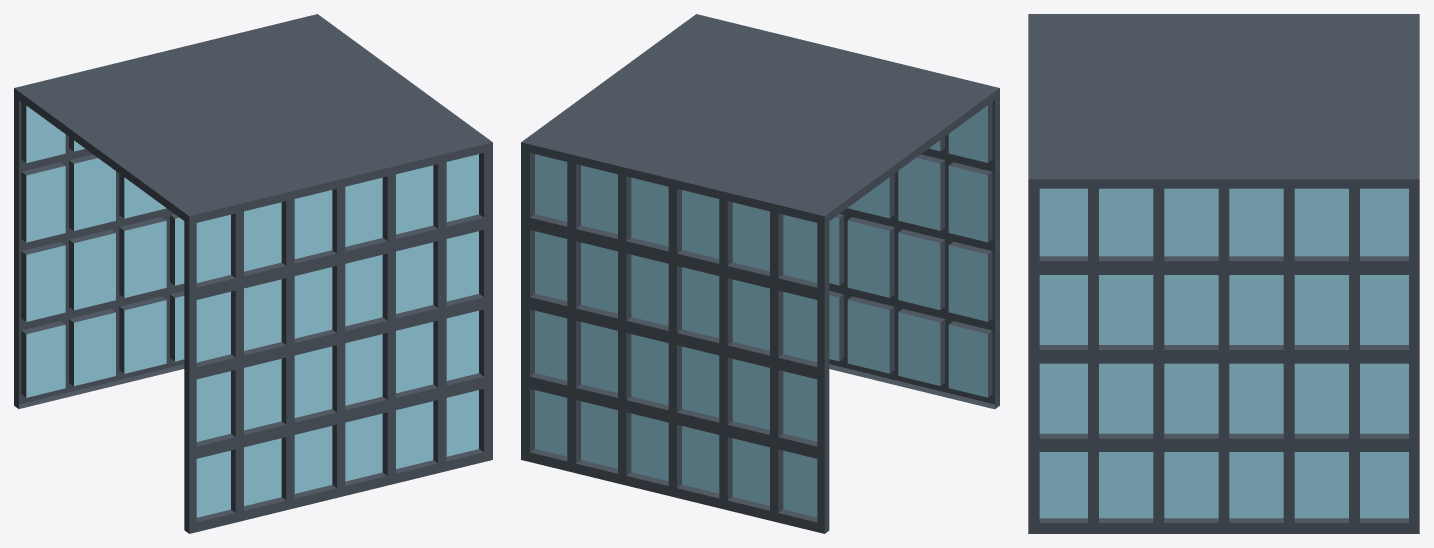
File: office S.fbx
3 renders of one model, left to right at view 1: azimuth 30°, elevation 25°; view 2: azimuth 150°, elevation 25°; view 3: azimuth 270°, elevation 25°, orthographic. The views are drawn at different scales.
Parts seen in each view (by area): view 1: office S; view 2: office S; view 3: office S.
Boxes of the visible parts, box(x1,y1,x2,y2) form: office S: box(14, 14, 492, 533); office S: box(521, 14, 999, 533); office S: box(1028, 14, 1419, 533).
Size of the model in its own units: 530 by 530 by 530.
